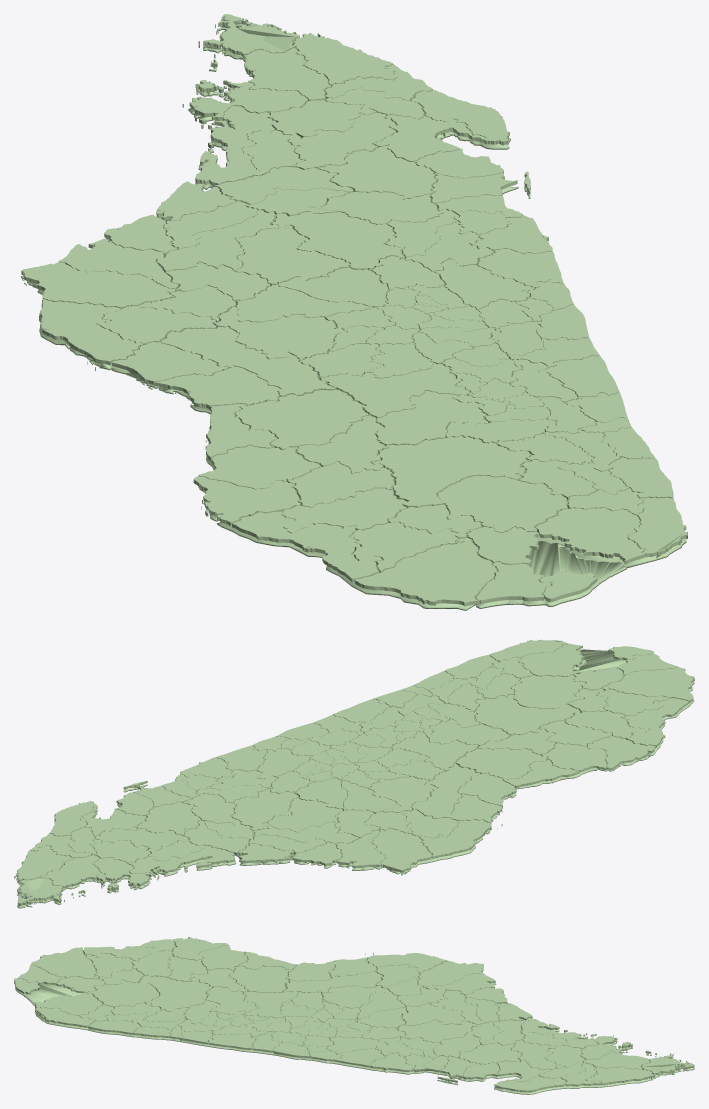
File: madagascar.glb
The picture shows the model from 3 angles, top to bottom: view 1: azimuth 30°, elevation 25°; view 2: azimuth 150°, elevation 25°; view 3: azimuth 270°, elevation 25°; orthographic projection. The views are drawn at different scales.
Parts seen in each view (by area): view 1: Ihosy, Ampanihy Ouest, Betroka, Mahabo, Miandrivazo, Tsaratanana, Besalampy, Amboasary-Atsimo, Toliary-II, Maevatanana, Ambatofinandrahana, Tsiroanomandidy (+76 smaller); view 2: Ihosy, Ampanihy Ouest, Betroka, Mahabo, Miandrivazo, Besalampy, Tsaratanana, Toliary-II, Maintirano, Ambatofinandrahana, Tsiroanomandidy, Analalava (+72 smaller); view 3: Ihosy, Ampanihy Ouest, Betroka, Mahabo, Miandrivazo, Tsaratanana, Besalampy, Maevatanana, Tsiroanomandidy, Ambatofinandrahana, Toliary-II, Maintirano (+78 smaller).
Boxes of the visible parts, x1,y1,x2,y2 form: Ihosy: [372, 435, 532, 508]; Ampanihy Ouest: [354, 537, 497, 606]; Betroka: [437, 475, 567, 532]; Mahabo: [235, 389, 370, 450]; Miandrivazo: [161, 326, 336, 396]; Tsaratanana: [271, 211, 404, 269]; Besalampy: [21, 262, 178, 309]; Amboasary-Atsimo: [535, 508, 645, 564]; Toliary-II: [232, 511, 382, 582]; Maevatanana: [235, 227, 349, 286]; Ambatofinandrahana: [320, 363, 471, 419]; Tsiroanomandidy: [214, 306, 346, 361]; Ihosy: [474, 694, 580, 736]; Ampanihy Ouest: [602, 666, 694, 702]; Betroka: [511, 675, 585, 708]; Mahabo: [456, 747, 547, 779]; Miandrivazo: [410, 763, 480, 818]; Besalampy: [371, 828, 432, 872]; Tsaratanana: [232, 788, 298, 830]; Toliary-II: [621, 698, 689, 747]; Maintirano: [420, 819, 502, 858]; Ambatofinandrahana: [392, 731, 478, 771]; Tsiroanomandidy: [369, 776, 437, 812]; Analalava: [129, 845, 234, 876]; Ihosy: [139, 975, 212, 1011]; Ampanihy Ouest: [31, 947, 98, 979]; Betroka: [88, 980, 159, 1007]; Mahabo: [229, 965, 289, 993]; Miandrivazo: [283, 971, 383, 993]; Tsaratanana: [397, 1019, 475, 1042]; Besalampy: [417, 961, 483, 987]; Maevatanana: [400, 1002, 464, 1025]; Tsiroanomandidy: [321, 985, 392, 1008]; Ambatofinandrahana: [243, 991, 298, 1018]; Toliary-II: [84, 939, 176, 961]; Maintirano: [365, 953, 448, 973].
Bounding box in the file's own units: 7.29 × 0.11 × 13.65.
